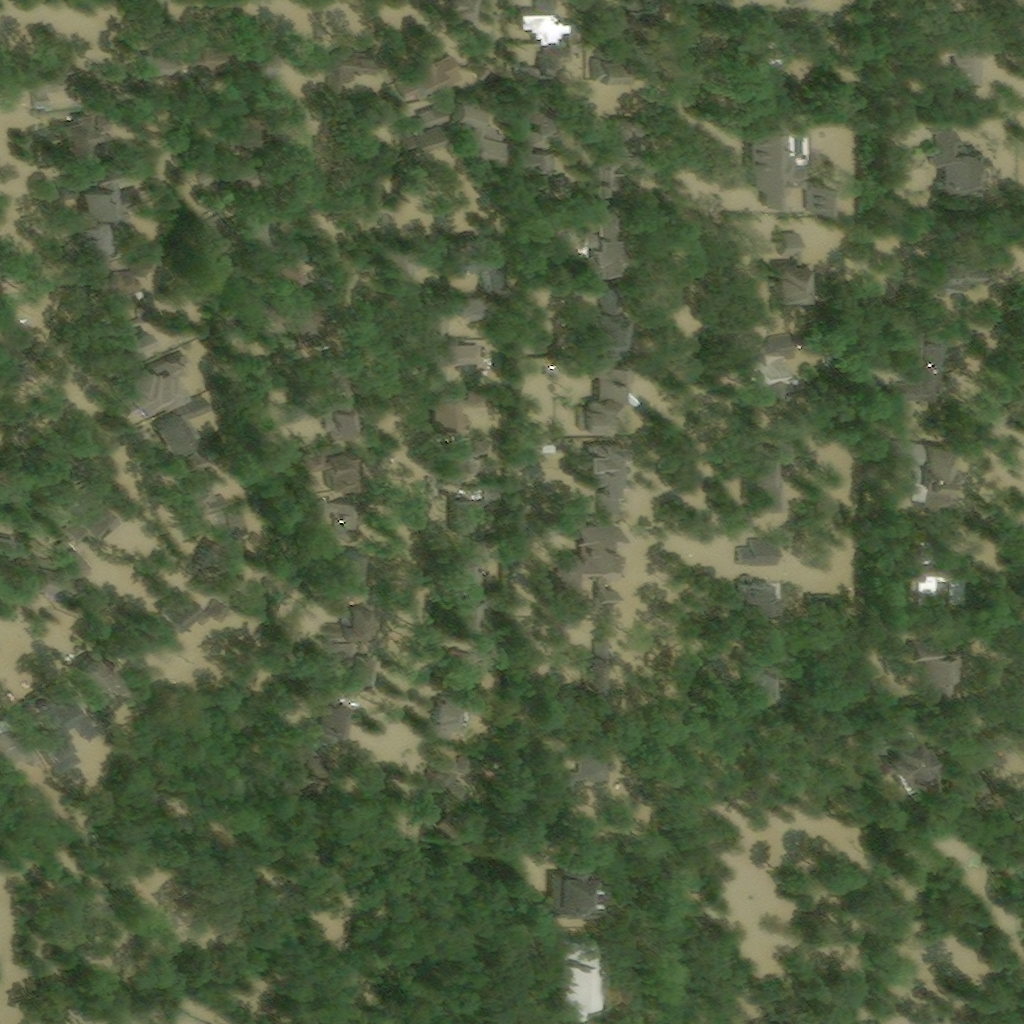destroyed: (899, 35, 989, 89), (729, 443, 790, 515), (63, 486, 117, 546), (178, 467, 228, 518), (0, 709, 41, 765), (100, 325, 152, 369), (239, 207, 279, 259), (104, 615, 151, 657), (29, 55, 64, 109), (386, 239, 437, 276), (744, 655, 778, 706), (228, 154, 258, 206), (346, 158, 379, 204), (427, 746, 464, 785), (414, 303, 453, 340), (319, 349, 349, 394), (21, 560, 58, 595), (273, 250, 306, 288), (197, 534, 235, 565), (47, 544, 86, 574), (289, 323, 325, 349), (768, 29, 798, 59), (199, 594, 228, 623), (34, 439, 62, 469), (288, 403, 326, 424), (376, 96, 397, 132), (262, 307, 289, 334), (250, 40, 275, 69), (345, 112, 374, 137), (559, 771, 577, 807), (69, 459, 89, 482), (311, 360, 326, 388), (0, 462, 13, 480), (791, 0, 813, 10), (0, 516, 3, 532)
major_damage: (108, 348, 190, 424), (555, 522, 622, 604), (746, 121, 804, 211), (884, 435, 951, 511), (740, 331, 799, 404), (890, 330, 948, 404), (926, 118, 988, 187), (580, 361, 635, 436), (578, 282, 630, 358), (554, 930, 597, 1020), (391, 54, 465, 104), (63, 156, 122, 217), (153, 392, 209, 456), (872, 728, 930, 789), (93, 255, 157, 308), (930, 228, 976, 297), (550, 854, 594, 923), (909, 641, 967, 693), (302, 684, 355, 740), (454, 99, 506, 153), (66, 649, 124, 697), (585, 439, 621, 516), (581, 209, 619, 279), (149, 584, 197, 638), (421, 345, 482, 387), (432, 692, 482, 741), (448, 539, 494, 592), (72, 217, 119, 268), (430, 387, 488, 427), (445, 645, 489, 693), (326, 593, 366, 642), (405, 106, 448, 150), (438, 440, 478, 487), (919, 541, 968, 579), (516, 7, 564, 44), (574, 743, 617, 784), (449, 231, 488, 276), (520, 98, 555, 147), (740, 575, 777, 619), (329, 53, 373, 88), (64, 111, 94, 161), (586, 640, 612, 697), (598, 156, 660, 179), (323, 450, 356, 491), (324, 403, 358, 442), (772, 259, 811, 291), (588, 58, 632, 86), (736, 538, 777, 567), (189, 42, 220, 77), (137, 49, 180, 74), (804, 176, 830, 215), (305, 492, 342, 519), (447, 0, 477, 29), (106, 295, 142, 319), (451, 497, 474, 534), (350, 651, 375, 685), (299, 445, 327, 471), (539, 45, 573, 65), (864, 723, 881, 760), (340, 549, 357, 583), (779, 231, 801, 257), (542, 210, 571, 229), (326, 642, 352, 662), (525, 150, 554, 167), (52, 181, 73, 204), (561, 18, 580, 42), (96, 112, 118, 132), (607, 132, 628, 152), (473, 439, 491, 460), (469, 60, 489, 78), (554, 618, 571, 639), (331, 522, 347, 542), (321, 546, 335, 566), (599, 590, 617, 605), (348, 582, 364, 592), (537, 0, 558, 7), (508, 0, 536, 5)
unclassified: (630, 48, 659, 83), (582, 19, 613, 43)
